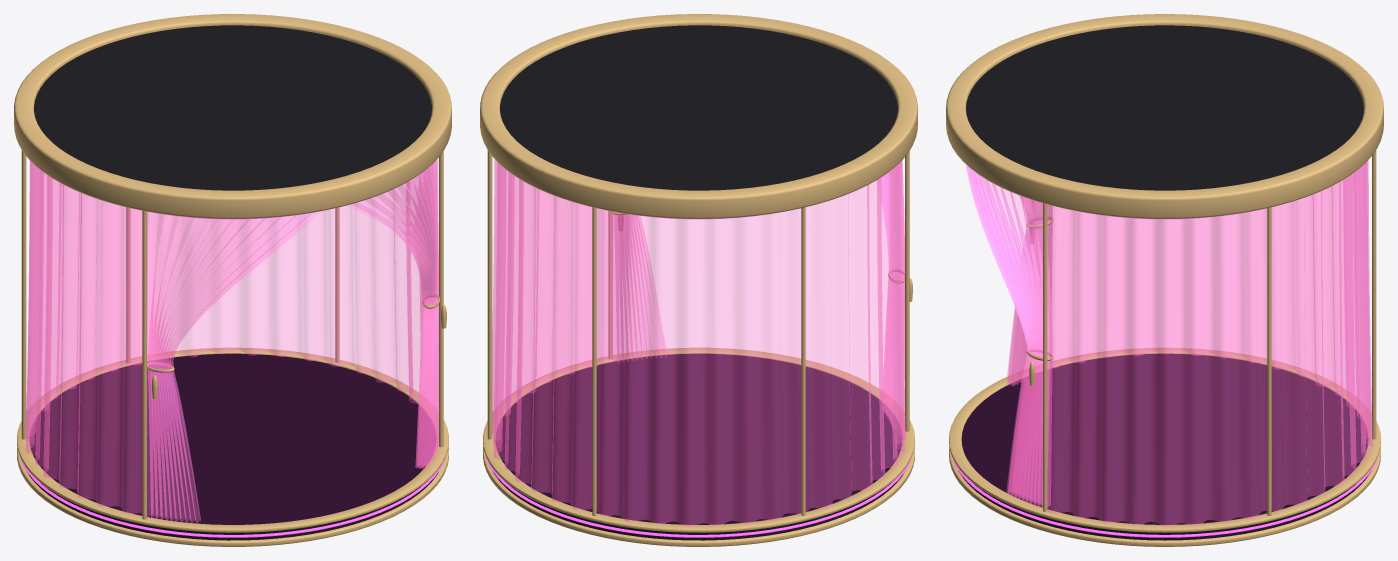
Rendered from KIT_Cabine_Cortina.glb.
3 renders of one model, left to right at view 1: azimuth 30°, elevation 25°; view 2: azimuth 150°, elevation 25°; view 3: azimuth 270°, elevation 25°, orthographic.
Visible parts, largest first — view 1: KIT_Cabine_Cortina; view 2: KIT_Cabine_Cortina; view 3: KIT_Cabine_Cortina.
Part boxes in pixels (left/top/right/bottom): KIT_Cabine_Cortina: left=14, top=14, right=451, bottom=546; KIT_Cabine_Cortina: left=480, top=14, right=917, bottom=546; KIT_Cabine_Cortina: left=946, top=14, right=1383, bottom=546.
Size of the model in its own units: 3.08 by 2.72 by 3.08.
